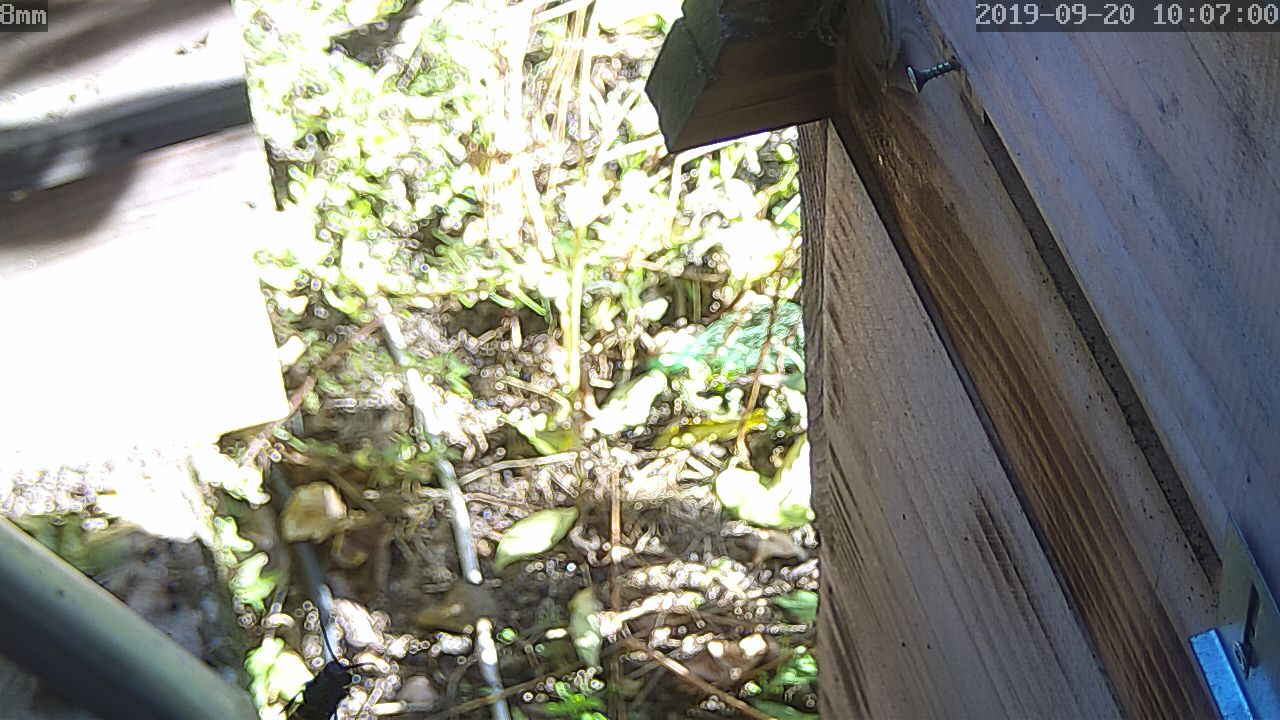hornet: (260, 638, 375, 720)
